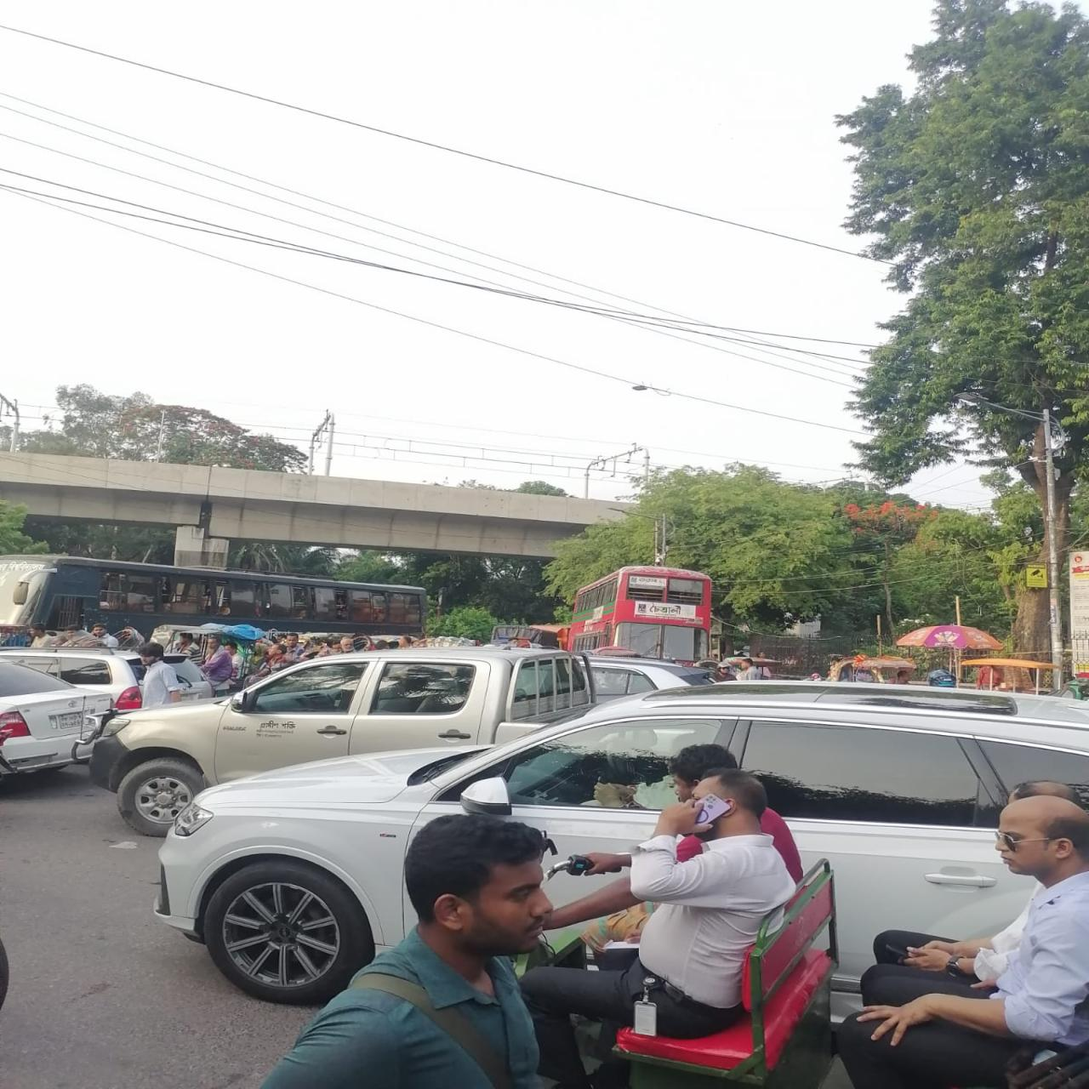person: (127, 644, 187, 706)
